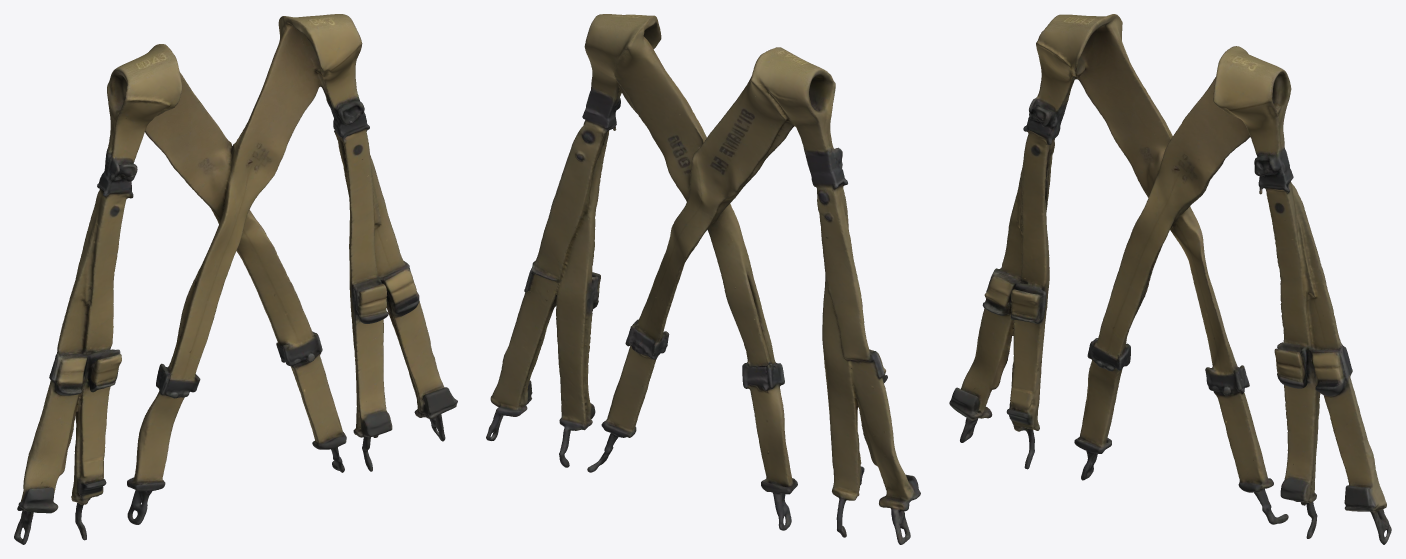
Rendered from Suspenders.glb.
The picture shows the model from 3 angles, left to right: view 1: azimuth 30°, elevation 25°; view 2: azimuth 150°, elevation 25°; view 3: azimuth 330°, elevation 25°; orthographic projection. The views are drawn at different scales.
Size of the model in its own units: 1.9 by 2 by 0.3071.
Materials: 1 (1 with a texture image).
